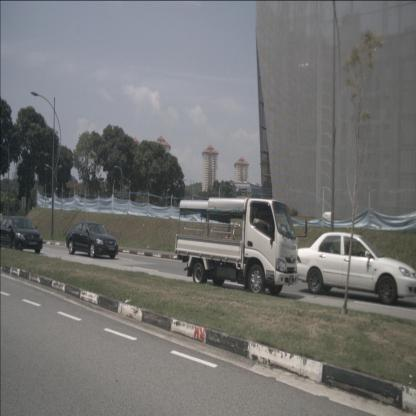vehicle-car: (293, 232, 416, 305), (66, 221, 119, 259), (0, 216, 43, 254)
vehicle-truck: (174, 197, 298, 295)
